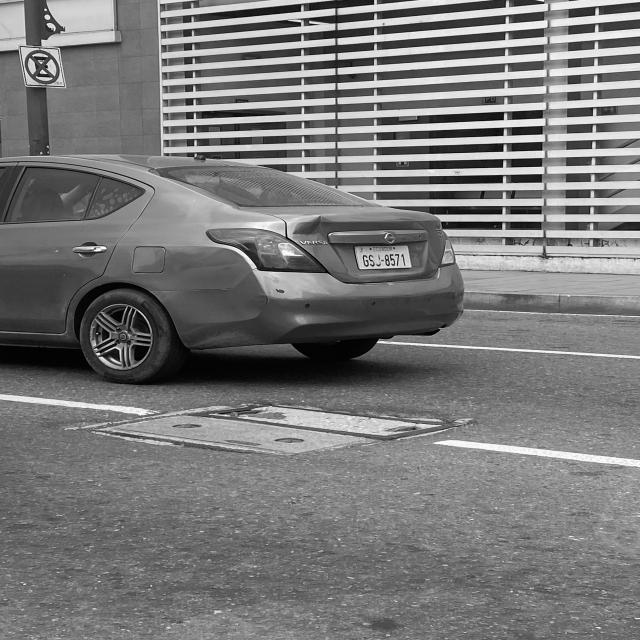Placa: (355, 246, 411, 269)
